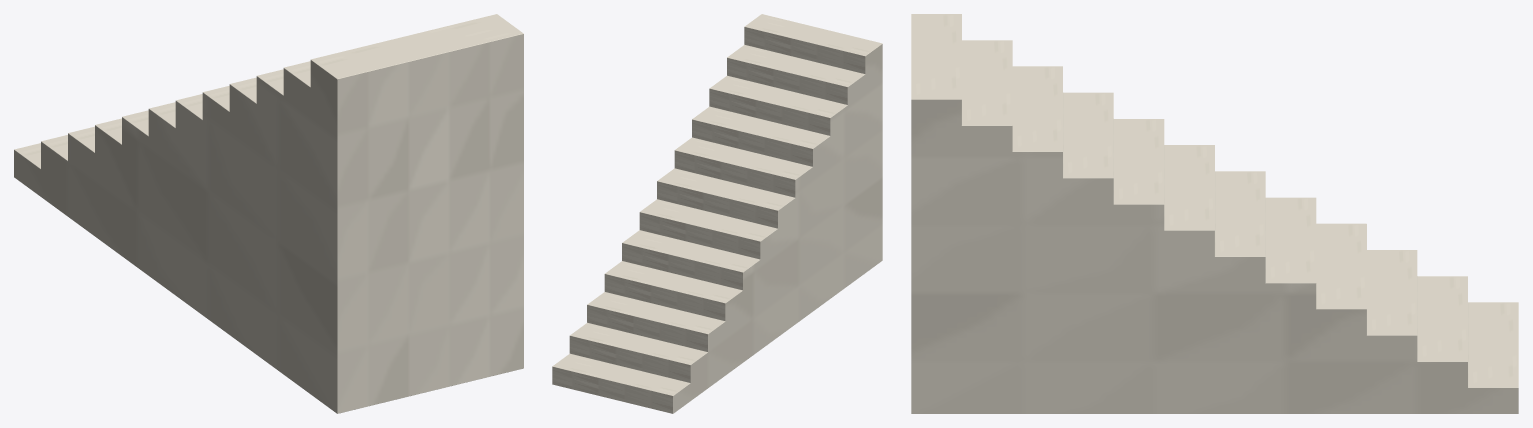
Rendered from town_stairs.glb.
The picture shows the model from 3 angles, left to right: view 1: azimuth 30°, elevation 25°; view 2: azimuth 150°, elevation 25°; view 3: azimuth 270°, elevation 25°; orthographic projection. The views are drawn at different scales.
Parts seen in each view (by area): view 1: town_stairs; view 2: town_stairs; view 3: town_stairs.
Part boxes in pixels (x1,y1,x2,y2): town_stairs: [14, 14, 523, 413]; town_stairs: [552, 14, 882, 413]; town_stairs: [911, 14, 1518, 413].
Size of the model in its own units: 1.4 by 2.4 by 4.2.
Materials: 2 (2 with a texture image).
